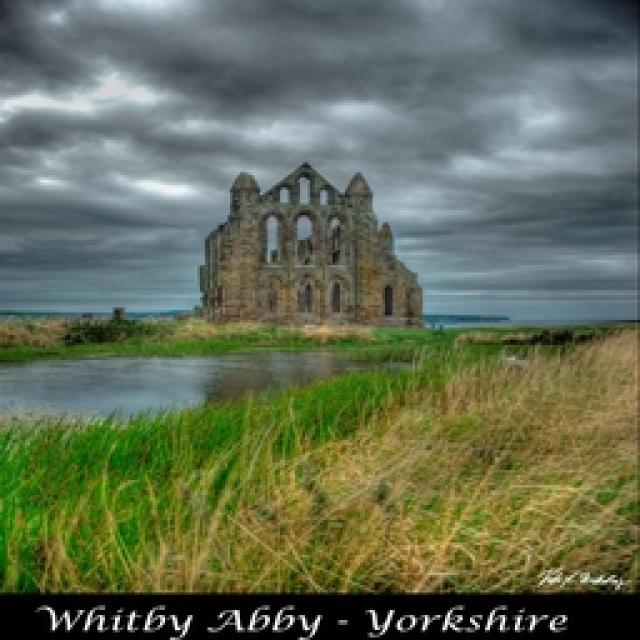Abbey: (196, 159, 426, 329)
